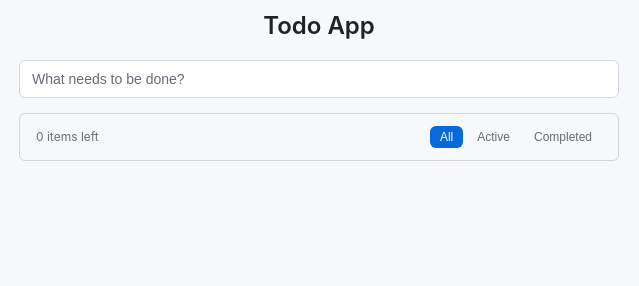
Test: App › filters todos by completed
This screenshot has width=639, height=286.
Type "Buy milk" into the field with placeholder "What needs to be done?".
click(319, 79); type("Buy milk")  # box [19,60,619,98]
Then press Enter
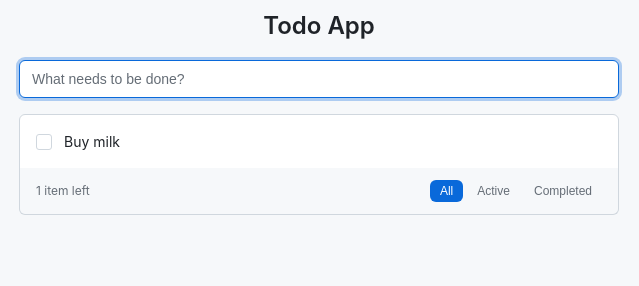
Type "Walk the dog" into the field with placeholder "What needs to be done?".
click(319, 79); type("Walk the dog")  # box [19,60,619,98]
Then press Enter
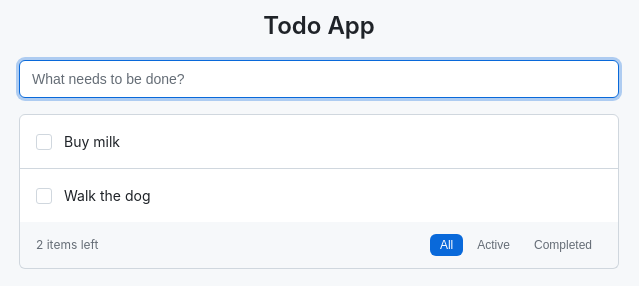
Click the checkbox next to "Buy milk".
click(44, 142)  # box [36,134,52,150]
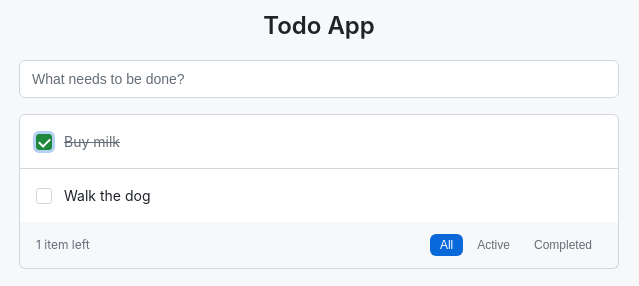
Click the button "Completed".
click(563, 245)  # box [524,234,602,256]
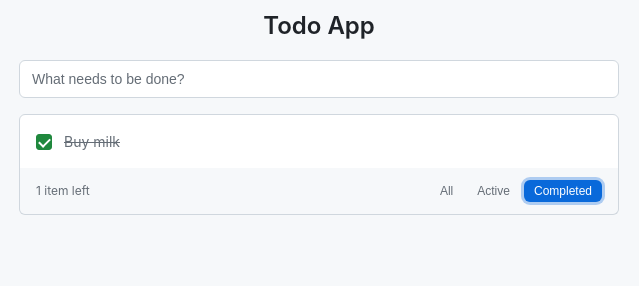
Check: the text "Buy milk" is shown, box [64,133,120,150]
Check: the text "Walk the dog" is gone
